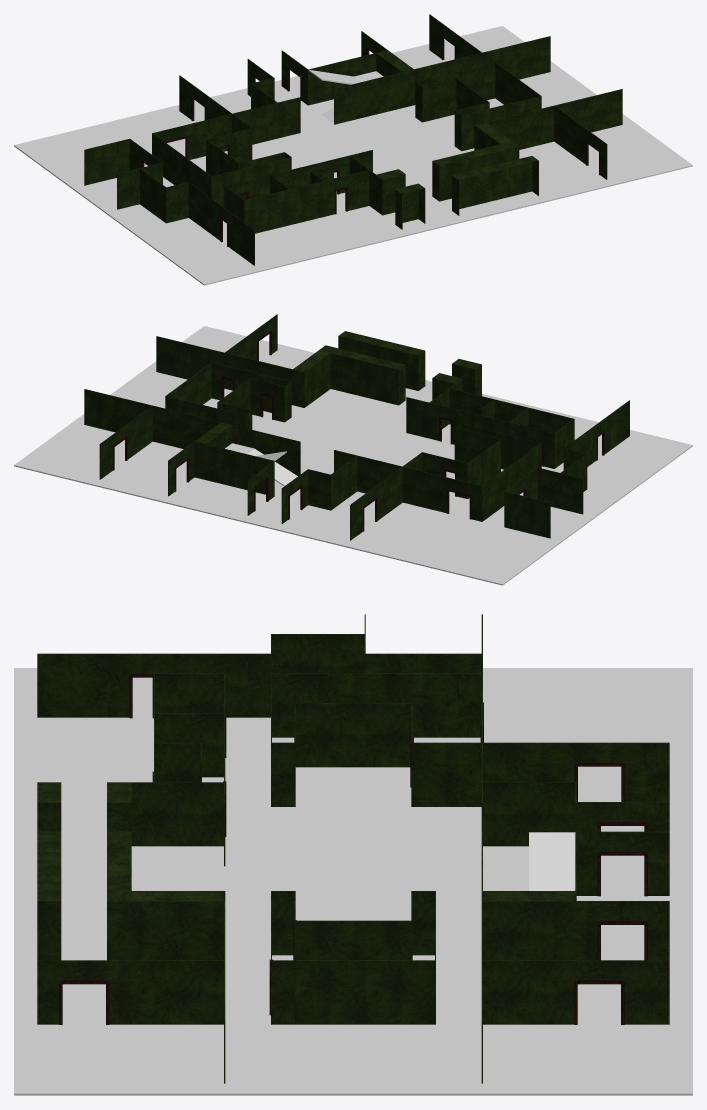
The model's file is Floor 1 - Lobby - V2.fbx.
3 renders of one model, top to bottom at view 1: azimuth 30°, elevation 25°; view 2: azimuth 150°, elevation 25°; view 3: azimuth 270°, elevation 25°, orthographic. The views are drawn at different scales.
Parts seen in each view (by area): view 1: Plane, Plane.008, Plane.009, Plane.002, Plane.001, Plane.007, Plane.006, Plane.004, Plane.005, Plane.003, Plane.010; view 2: Plane, Plane.008, Plane.009, Plane.002, Plane.001, Plane.007, Plane.005, Plane.006, Plane.004, Plane.003, Plane.010; view 3: Plane, Plane.008, Plane.009, Plane.007, Plane.001, Plane.002, Plane.006, Plane.005, Plane.004, Plane.010, Plane.003.
Part boxes in pixels (x1=…): Plane: x1=14, y1=26, x2=692, y2=285; Plane.008: x1=152, y1=59, x2=300, y2=207; Plane.009: x1=281, y1=14, x2=550, y2=124; Plane.002: x1=224, y1=150, x2=405, y2=233; Plane.001: x1=84, y1=138, x2=254, y2=265; Plane.007: x1=415, y1=62, x2=541, y2=151; Plane.006: x1=486, y1=89, x2=622, y2=179; Plane.004: x1=452, y1=156, x2=538, y2=215; Plane.005: x1=432, y1=122, x2=519, y2=201; Plane.003: x1=395, y1=183, x2=425, y2=229; Plane.010: x1=308, y1=70, x2=383, y2=123; Plane: x1=14, y1=326, x2=692, y2=585; Plane.008: x1=281, y1=423, x2=541, y2=540; Plane.009: x1=84, y1=389, x2=300, y2=515; Plane.002: x1=406, y1=373, x2=574, y2=468; Plane.001: x1=504, y1=400, x2=629, y2=538; Plane.007: x1=165, y1=362, x2=291, y2=429; Plane.005: x1=292, y1=345, x2=405, y2=407; Plane.006: x1=156, y1=314, x2=292, y2=404; Plane.004: x1=338, y1=331, x2=425, y2=390; Plane.003: x1=452, y1=359, x2=481, y2=395; Plane.010: x1=225, y1=443, x2=297, y2=486; Plane: x1=14, y1=668, x2=692, y2=1095; Plane.008: x1=271, y1=673, x2=669, y2=846; Plane.009: x1=481, y1=831, x2=669, y2=1083; Plane.007: x1=271, y1=891, x2=435, y2=1024; Plane.001: x1=37, y1=614, x2=482, y2=717; Plane.002: x1=107, y1=673, x2=225, y2=866; Plane.006: x1=37, y1=901, x2=225, y2=1083; Plane.005: x1=107, y1=831, x2=225, y2=960; Plane.004: x1=37, y1=831, x2=61, y2=960; Plane.010: x1=529, y1=832, x2=575, y2=890; Plane.003: x1=37, y1=782, x2=61, y2=831.
Bounding box in the file's own units: 43 × 29 × 3.1.
